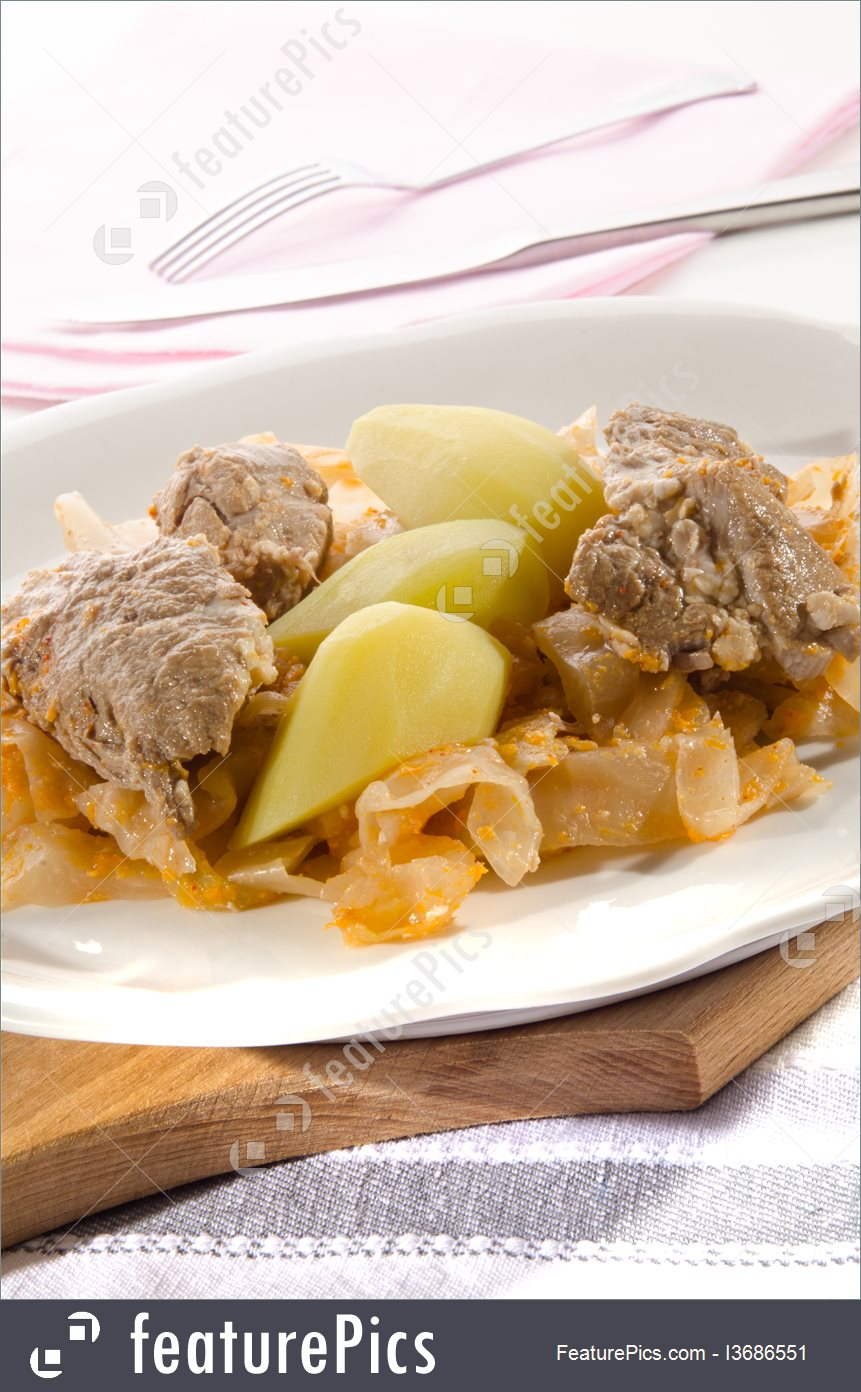boiled potatoes: (256, 612, 532, 783), (341, 403, 590, 569)
